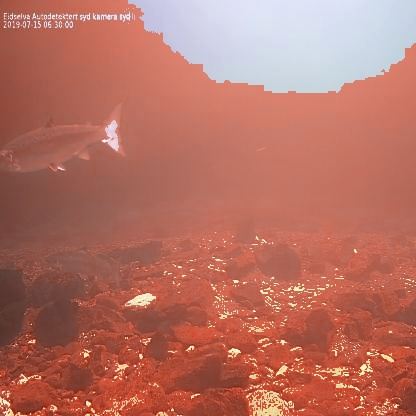salmon: (0, 101, 130, 177), (42, 244, 122, 290)
